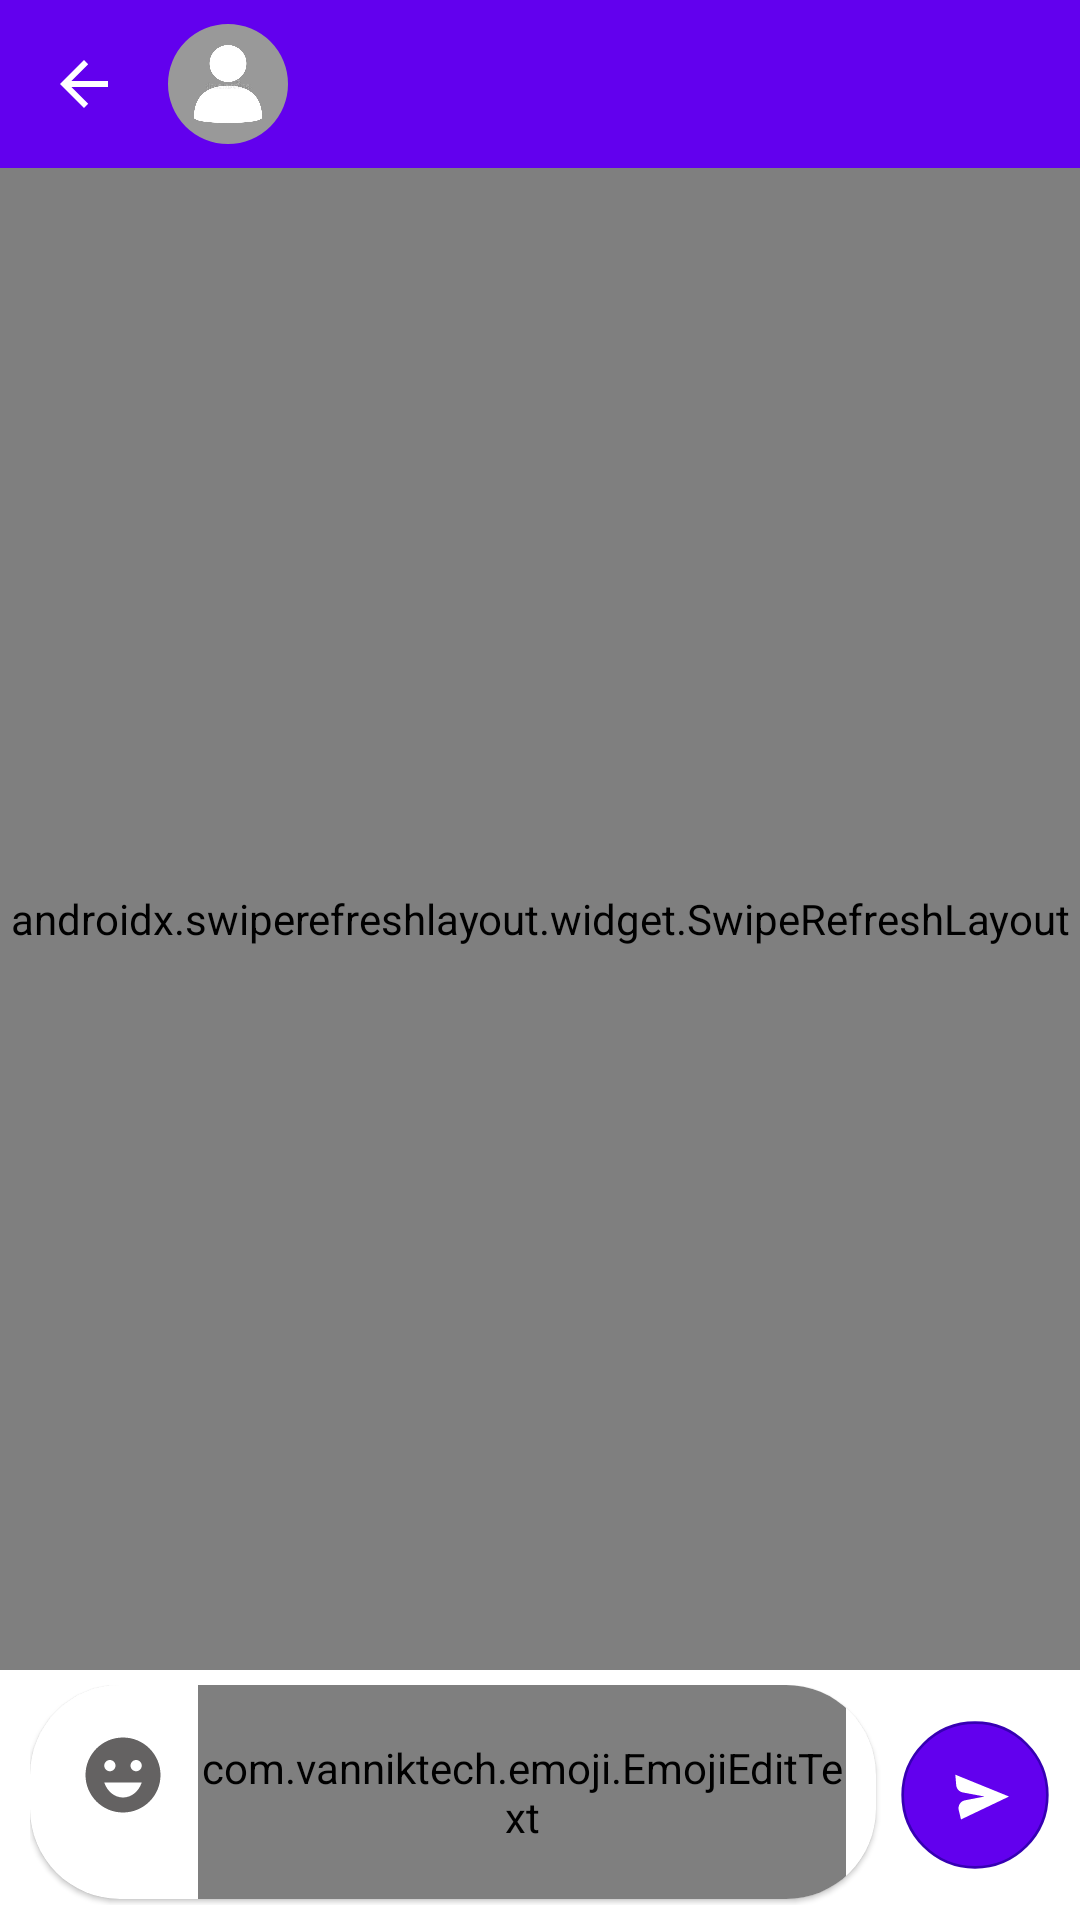

Locate icon controls on the screen. Image size 1080px×1920px, boxes as {"left": x1, "top": y1, "right": x2, "bottom": y2}.
chat emoji: {"left": 85, "top": 1737, "right": 161, "bottom": 1813}
